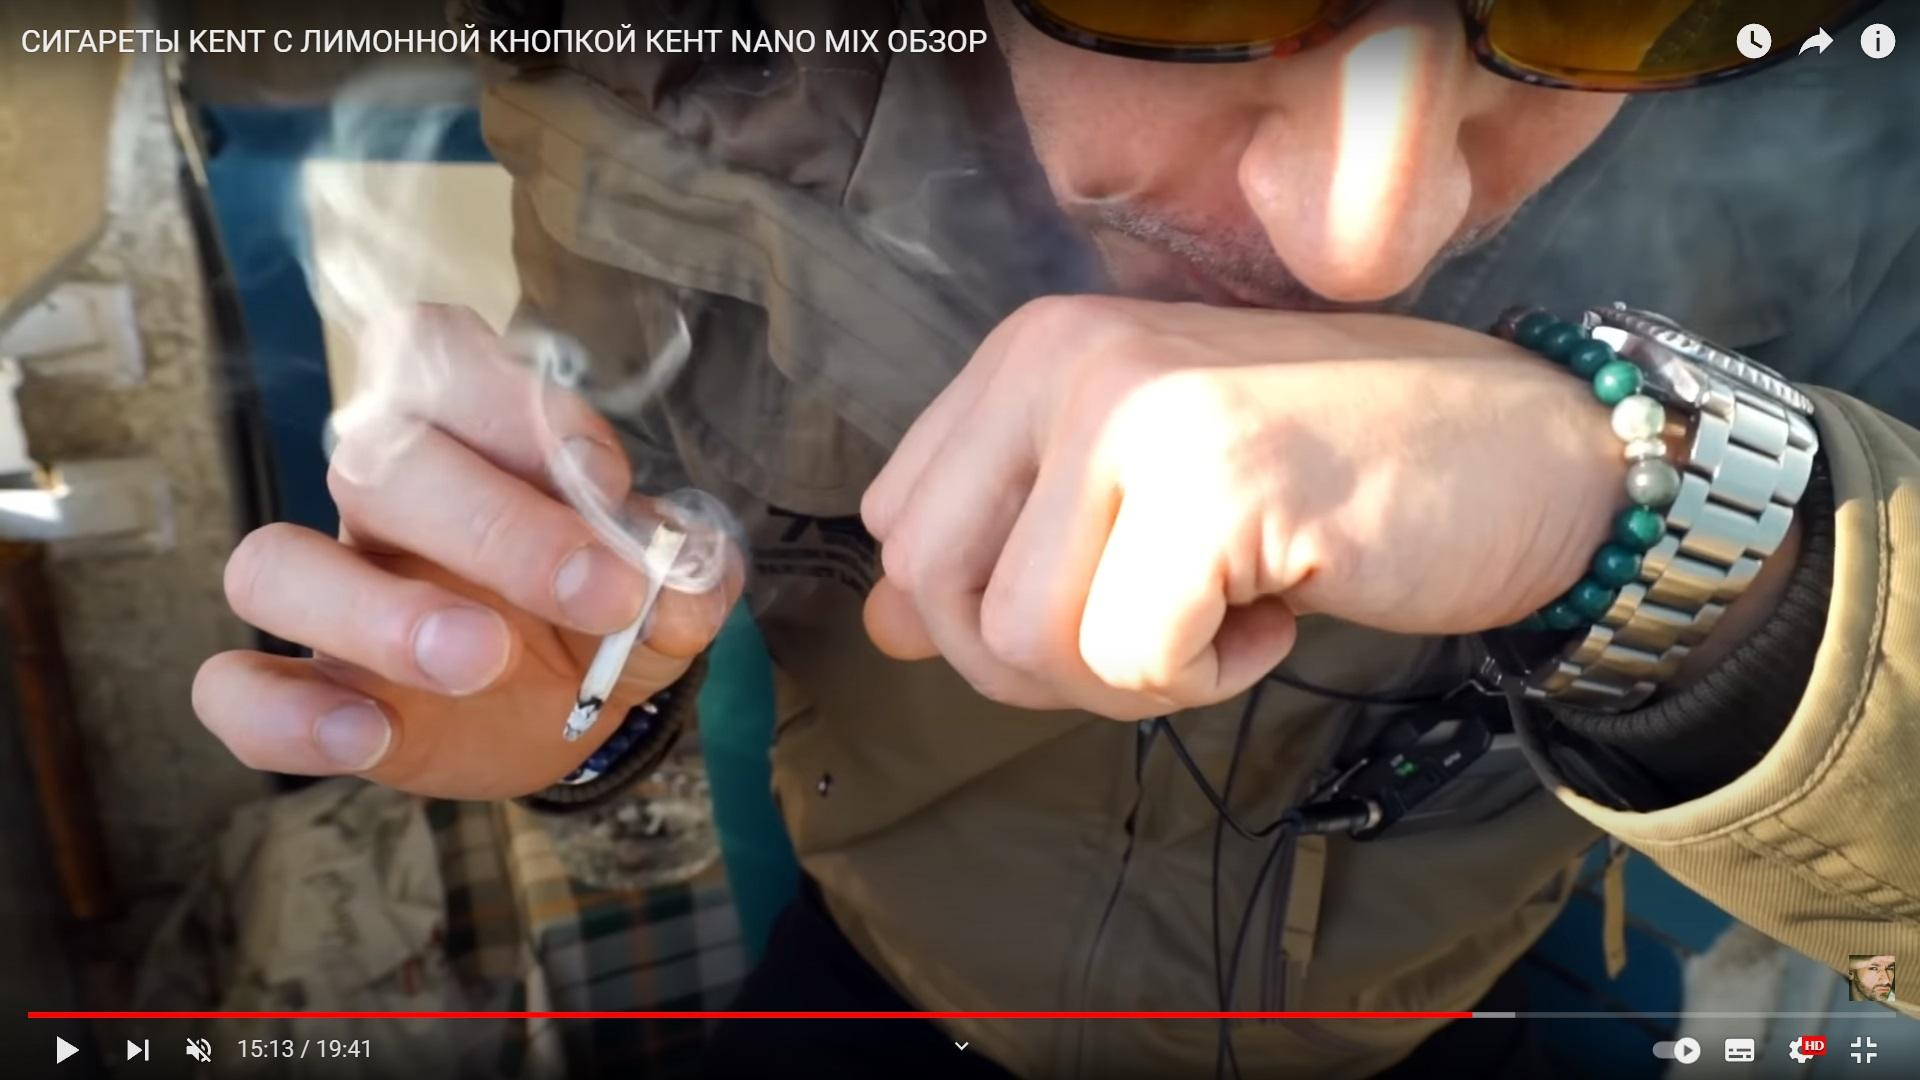cigarette: (563, 522, 687, 741)
